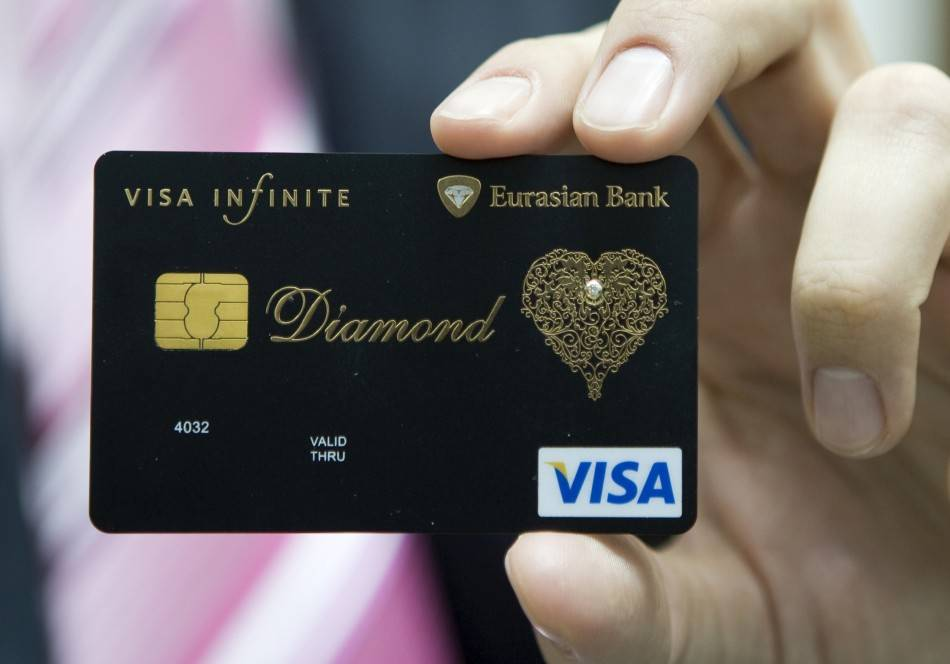tarjeta: (87, 149, 701, 537)
